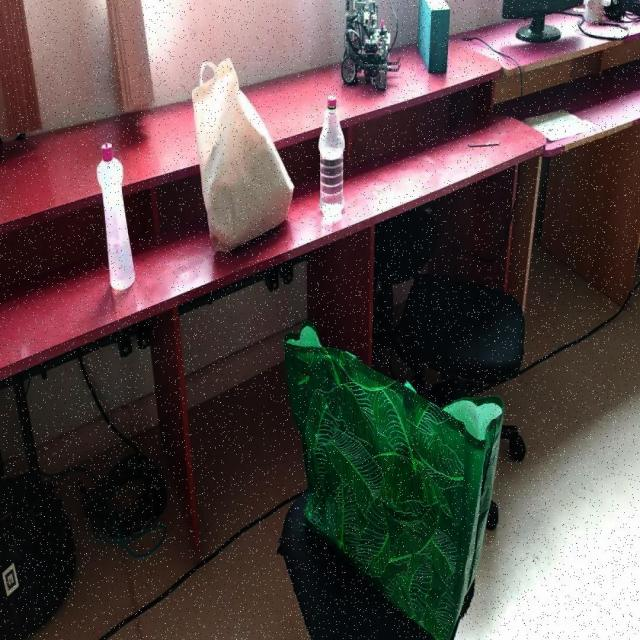Bag: (284, 315, 505, 640), (190, 56, 295, 258)
